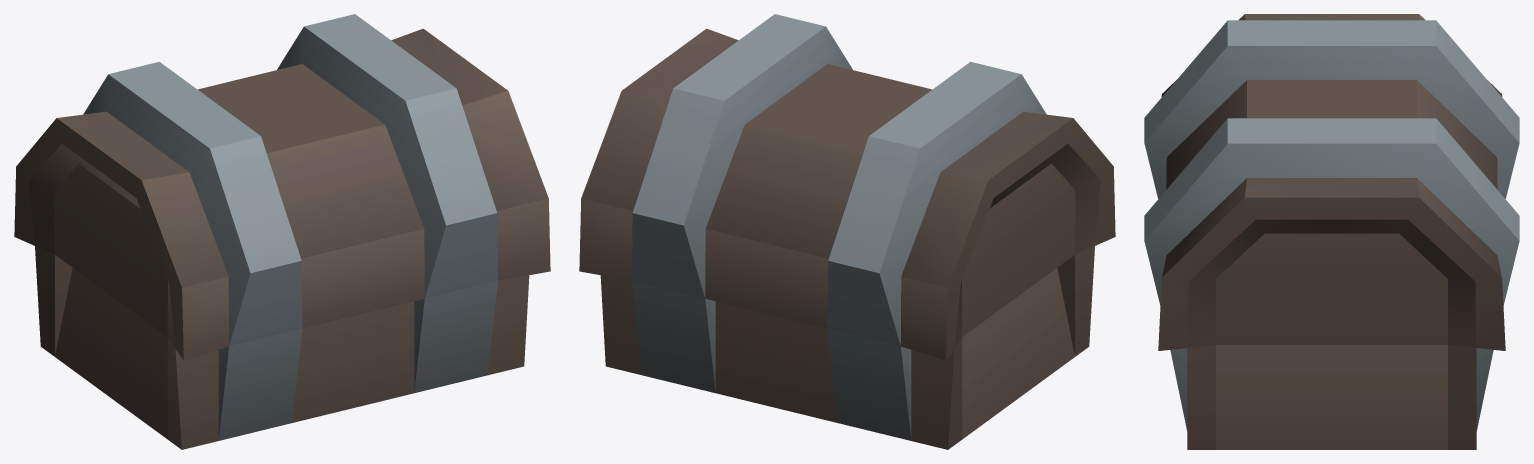
Rendered from trunk_small_b.glb.
3 renders of one model, left to right at view 1: azimuth 30°, elevation 25°; view 2: azimuth 150°, elevation 25°; view 3: azimuth 270°, elevation 25°, orthographic. The views are drawn at different scales.
Visible parts, largest first — view 1: trunk_small_B; view 2: trunk_small_B; view 3: trunk_small_B.
Part boxes in pixels (bbox=[...]): trunk_small_B: bbox=[14, 14, 550, 449]; trunk_small_B: bbox=[579, 14, 1115, 449]; trunk_small_B: bbox=[1144, 14, 1519, 449].
Size of the model in its own units: 0.6754 by 0.4843 by 0.5834.
1 material, 1 textured.
